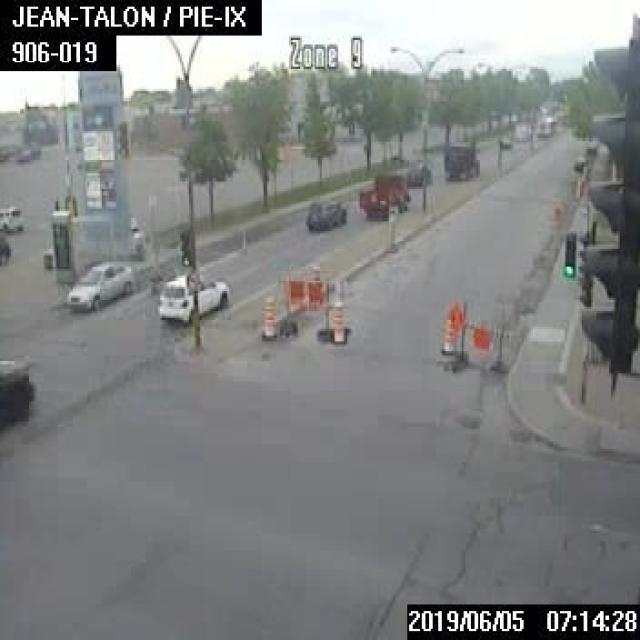construction: (275, 268, 350, 342), (442, 300, 511, 372), (329, 298, 345, 344), (260, 298, 274, 338), (441, 316, 455, 353)
vehicle: (154, 266, 228, 324), (65, 260, 132, 313), (0, 356, 33, 434), (356, 170, 408, 218), (303, 195, 346, 229), (443, 140, 479, 180), (396, 160, 431, 183), (0, 205, 22, 231), (535, 114, 551, 136), (512, 121, 529, 139), (0, 232, 9, 264), (498, 135, 512, 149)
